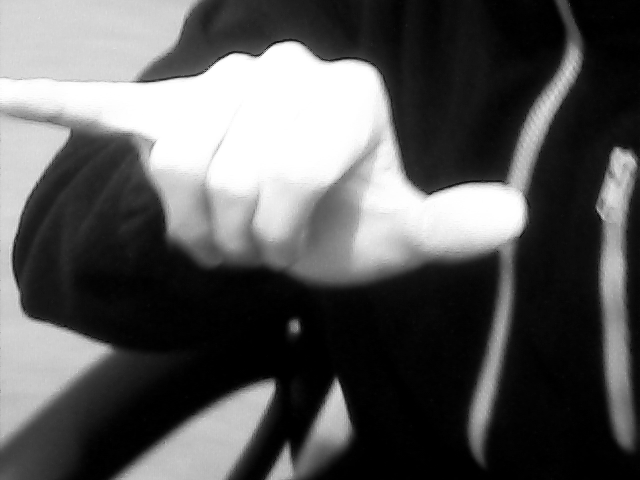aloha: (1, 38, 530, 292)
